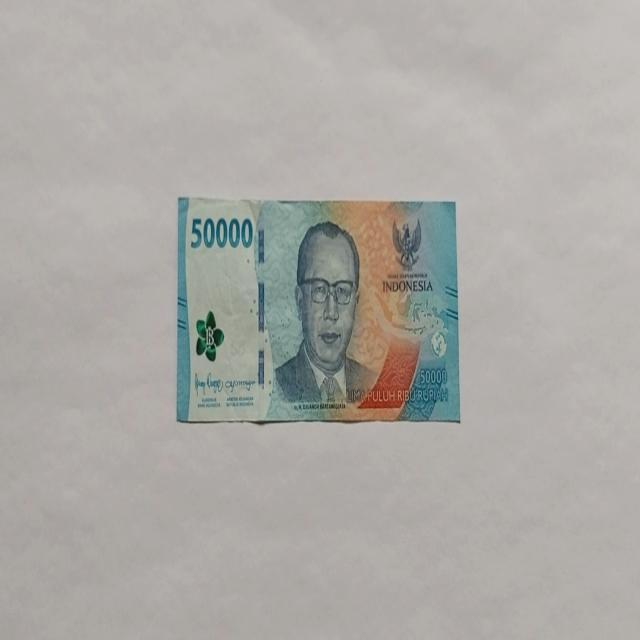lima puluh ribu rupiah: (176, 195, 460, 425), (268, 218, 378, 414)
